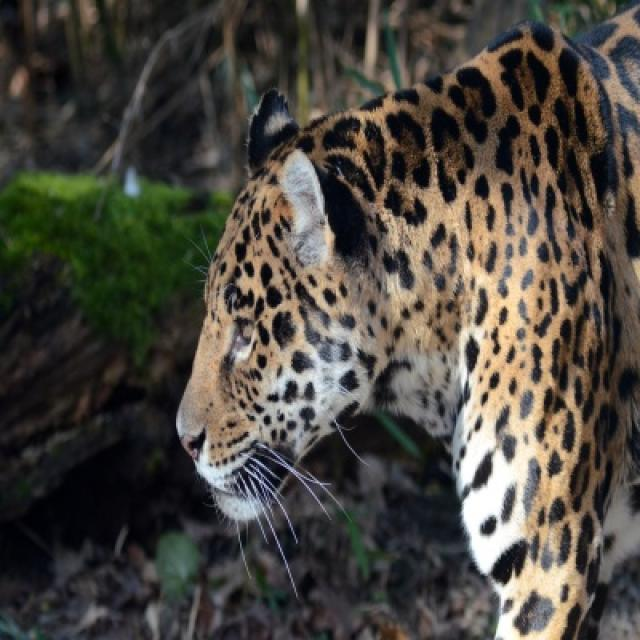Jaguar: (174, 5, 638, 638)
